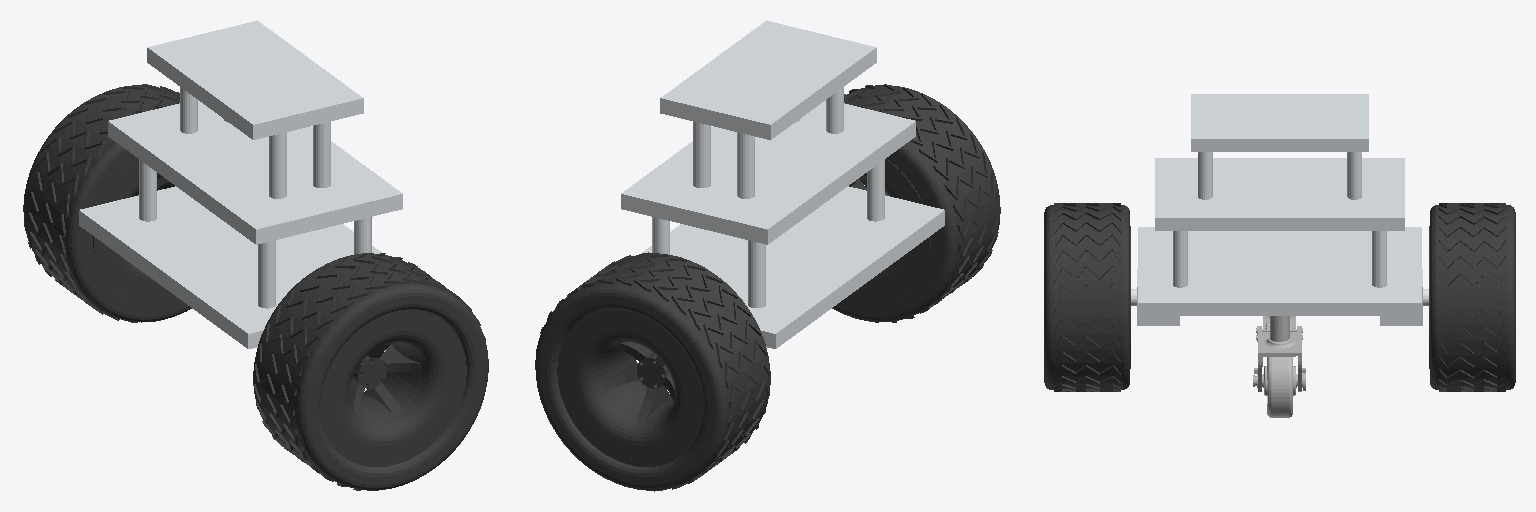
The robot description file, URDF, robot "two_wheeled_bot":
<?xml version="1.0" encoding="utf-8"?>
<!-- This URDF was automatically created by SolidWorks to URDF Exporter! Originally created by [author] ([email redacted]) 
     Commit Version: 1.6.0-1-g15f4949  Build Version: 1.6.7594.29634
     For more information, please see http://wiki.ros.org/sw_urdf_exporter -->
<robot
  name="two_wheeled_bot">
  <link
    name="base_link">
    <inertial>
      <origin
        xyz="-1.4387E-05 1.3878E-17 0.060106"
        rpy="0 0 0" />
      <mass
        value="12.812" />
      <inertia
        ixx="0.12262"
        ixy="-6.8182E-19"
        ixz="-7.5972E-06"
        iyy="0.045704"
        iyz="-1.5611E-18"
        izz="0.16644" />
    </inertial>
    <visual>
      <origin
        xyz="0 0 0"
        rpy="0 0 0" />
      <geometry>
        <mesh
          filename="package://two_wheeled_bot/meshes/base_link.STL" />
      </geometry>
      <material
        name="">
        <color
          rgba="0.89804 0.91765 0.92941 1" />
      </material>
    </visual>
    <collision>
      <origin
        xyz="0 0 0"
        rpy="0 0 0" />
      <geometry>
        <mesh
          filename="package://two_wheeled_bot/meshes/base_link.STL" />
      </geometry>
    </collision>
  </link>
  <link
    name="lw_Link">
    <inertial>
      <origin
        xyz="-2.6431E-06 7.7882E-07 -0.0071869"
        rpy="0 0 0" />
      <mass
        value="4.809" />
      <inertia
        ixx="0.022657"
        ixy="1.413E-09"
        ixz="-9.8641E-08"
        iyy="0.022657"
        iyz="2.9199E-08"
        izz="0.033315" />
    </inertial>
    <visual>
      <origin
        xyz="0 0 0"
        rpy="0 0 0" />
      <geometry>
        <mesh
          filename="package://two_wheeled_bot/meshes/lw_Link.STL" />
      </geometry>
      <material
        name="">
        <color
          rgba="0.29804 0.29804 0.29804 1" />
      </material>
    </visual>
    <collision>
      <origin
        xyz="0 0 0"
        rpy="0 0 0" />
      <geometry>
        <mesh
          filename="package://two_wheeled_bot/meshes/lw_Link.STL" />
      </geometry>
    </collision>
  </link>
  <joint
    name="lw_joint"
    type="continuous">
    <origin
      xyz="0.00080677 0.27524 -0.05"
      rpy="-1.5708 0 0" />
    <parent
      link="base_link" />
    <child
      link="lw_Link" />
    <axis
      xyz="0 0 -1" />
  </joint>
  <link
    name="rw_Link">
    <inertial>
      <origin
        xyz="2.7374E-06 3.1486E-07 -0.0071869"
        rpy="0 0 0" />
      <mass
        value="4.809" />
      <inertia
        ixx="0.022657"
        ixy="-1.3697E-09"
        ixz="1.0221E-07"
        iyy="0.022657"
        iyz="1.1627E-08"
        izz="0.033315" />
    </inertial>
    <visual>
      <origin
        xyz="0 0 0"
        rpy="0 0 0" />
      <geometry>
        <mesh
          filename="package://two_wheeled_bot/meshes/rw_Link.STL" />
      </geometry>
      <material
        name="">
        <color
          rgba="0.29804 0.29804 0.29804 1" />
      </material>
    </visual>
    <collision>
      <origin
        xyz="0 0 0"
        rpy="0 0 0" />
      <geometry>
        <mesh
          filename="package://two_wheeled_bot/meshes/rw_Link.STL" />
      </geometry>
    </collision>
  </link>
  <joint
    name="rw_joint"
    type="continuous">
    <origin
      xyz="0.00080677 -0.27524 -0.05"
      rpy="1.5708 0 0" />
    <parent
      link="base_link" />
    <child
      link="rw_Link" />
    <axis
      xyz="0 0 1" />
  </joint>
  <link
    name="cws_Link">
    <inertial>
      <origin
        xyz="-0.0039582 -0.0001334 -0.041094"
        rpy="0 0 0" />
      <mass
        value="1.586" />
      <inertia
        ixx="0.0015128"
        ixy="-7.0872E-06"
        ixz="-1.8122E-05"
        iyy="0.0020985"
        iyz="-6.7296E-08"
        izz="0.0013004" />
    </inertial>
    <visual>
      <origin
        xyz="0 0 0"
        rpy="0 0 0" />
      <geometry>
        <mesh
          filename="package://two_wheeled_bot/meshes/cws_Link.STL" />
      </geometry>
      <material
        name="">
        <color
          rgba="0.75294 0.75294 0.75294 1" />
      </material>
    </visual>
    <collision>
      <origin
        xyz="0 0 0"
        rpy="0 0 0" />
      <geometry>
        <mesh
          filename="package://two_wheeled_bot/meshes/cws_Link.STL" />
      </geometry>
    </collision>
  </link>
  <joint
    name="cws_joint"
    type="continuous">
    <origin
      xyz="0.10215 0 -0.072"
      rpy="0 0 0" />
    <parent
      link="base_link" />
    <child
      link="cws_Link" />
    <axis
      xyz="0 0 1" />
  </joint>
  <link
    name="lidar_Link">
    <inertial>
      <origin
        xyz="0.0023752 4.6157E-05 0.019972"
        rpy="0 0 0" />
      <mass
        value="0.56987" />
      <inertia
        ixx="0.00029191"
        ixy="-1.2451E-06"
        ixz="7.5655E-07"
        iyy="0.00035595"
        iyz="1.4702E-08"
        izz="0.00050128" />
    </inertial>
    <visual>
      <origin
        xyz="0 0 0"
        rpy="0 0 0" />
      <geometry>
        <mesh
          filename="package://two_wheeled_bot/meshes/lidar_Link.STL" />
      </geometry>
      <material
        name="">
        <color
          rgba="0.89804 0.91765 0.92941 1" />
      </material>
    </visual>
    <collision>
      <origin
        xyz="0 0 0"
        rpy="0 0 0" />
      <geometry>
        <mesh
          filename="package://two_wheeled_bot/meshes/lidar_Link.STL" />
      </geometry>
    </collision>
  </link>
  <joint
    name="lidar_joint"
    type="fixed">
    <origin
      xyz="0 0 0.23"
      rpy="0 0 0" />
    <parent
      link="base_link" />
    <child
      link="lidar_Link" />
    <axis
      xyz="0 0 0" />
  </joint>
</robot>

--- Facts derived from the render (not from the file) ---
The picture shows the robot from 3 angles, left to right: view 1: azimuth 30°, elevation 25°; view 2: azimuth 150°, elevation 25°; view 3: azimuth 270°, elevation 25°; orthographic projection.
Robot: two_wheeled_bot — 5 links, 4 joints (3 continuous, 1 fixed); root link base_link; default pose: every joint at zero.
Links seen in each view (by area): view 1: base_link, rw_Link, lw_Link; view 2: base_link, lw_Link, rw_Link; view 3: base_link, lw_Link, rw_Link, cws_Link.
Link boxes in pixels (x1=…): base_link: x1=79, y1=20, x2=402, y2=348; rw_Link: x1=253, y1=253, x2=488, y2=490; lw_Link: x1=23, y1=84, x2=191, y2=322; base_link: x1=621, y1=20, x2=944, y2=348; lw_Link: x1=535, y1=252, x2=770, y2=491; rw_Link: x1=832, y1=84, x2=1000, y2=322; base_link: x1=1131, y1=94, x2=1428, y2=325; lw_Link: x1=1429, y1=203, x2=1515, y2=391; rw_Link: x1=1044, y1=203, x2=1130, y2=391; cws_Link: x1=1253, y1=316, x2=1305, y2=417.
Bounding box of the posed robot: 0.2865 × 0.6619 × 0.414 m (x, y, z).
Meshes: 5 distinct files referenced, 4 mesh visuals loaded (4 binary STL); not drawn: 1 (reference not matched to a file when rendering).